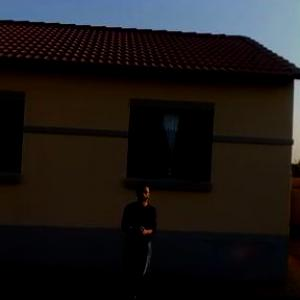follow: (110, 173, 160, 299)
